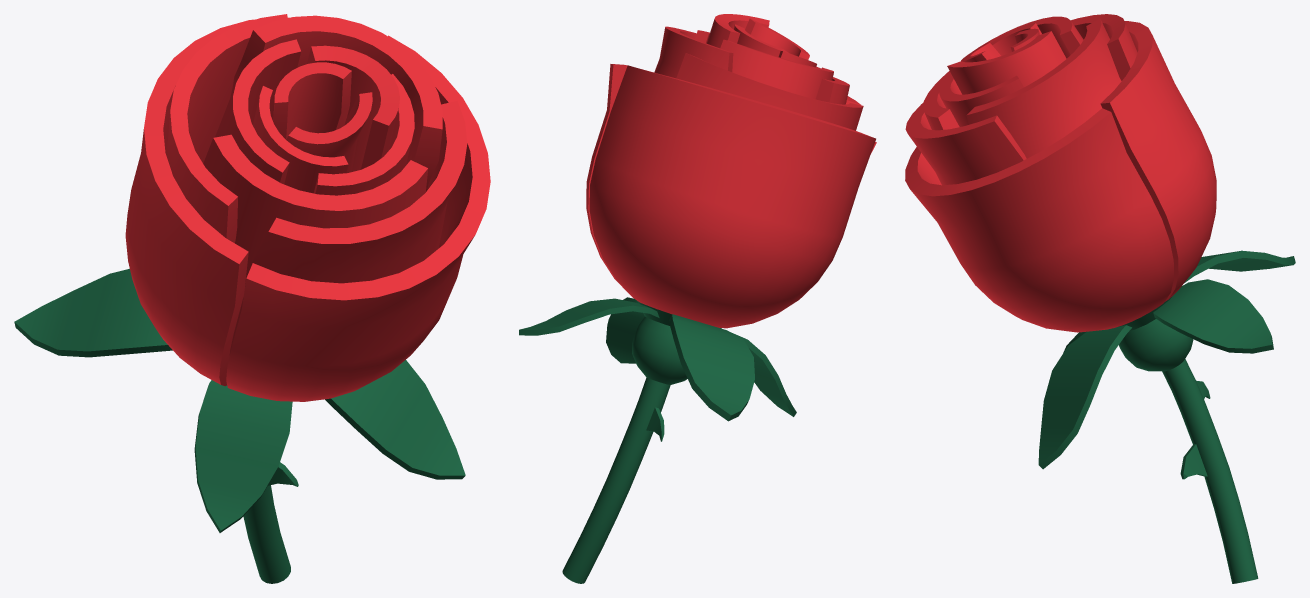
Rendered from Rose.gltf.
3 views of the same model, side by side, from view 1: azimuth 30°, elevation 25°; view 2: azimuth 150°, elevation 25°; view 3: azimuth 270°, elevation 25° (orthographic). The views are drawn at different scales.
Parts seen in each view (by area): view 1: Sphere.389, Circle.2033, Circle.2032, Circle.2031, Circle.2030; view 2: Sphere.389, Circle.2030, Circle.2031, Circle.2034, Circle.2032, Circle.2033; view 3: Sphere.389, Circle.2030, Circle.2032, Circle.2034, Circle.2031.
Boxes of the visible parts, bbox=[...] form: Sphere.389: bbox=[125, 14, 490, 401]; Circle.2033: bbox=[194, 380, 292, 532]; Circle.2032: bbox=[325, 360, 465, 479]; Circle.2031: bbox=[14, 268, 172, 357]; Circle.2030: bbox=[243, 462, 298, 583]; Sphere.389: bbox=[586, 14, 876, 328]; Circle.2030: bbox=[562, 301, 721, 583]; Circle.2031: bbox=[669, 314, 754, 421]; Circle.2034: bbox=[519, 298, 659, 335]; Circle.2032: bbox=[606, 297, 644, 363]; Circle.2033: bbox=[731, 332, 796, 416]; Sphere.389: bbox=[905, 14, 1216, 332]; Circle.2030: bbox=[1118, 297, 1258, 583]; Circle.2032: bbox=[1038, 325, 1131, 469]; Circle.2034: bbox=[1153, 279, 1273, 353]; Circle.2031: bbox=[1184, 250, 1295, 282].
Size of the model in its own units: 1.11 by 2.22 by 1.5.
